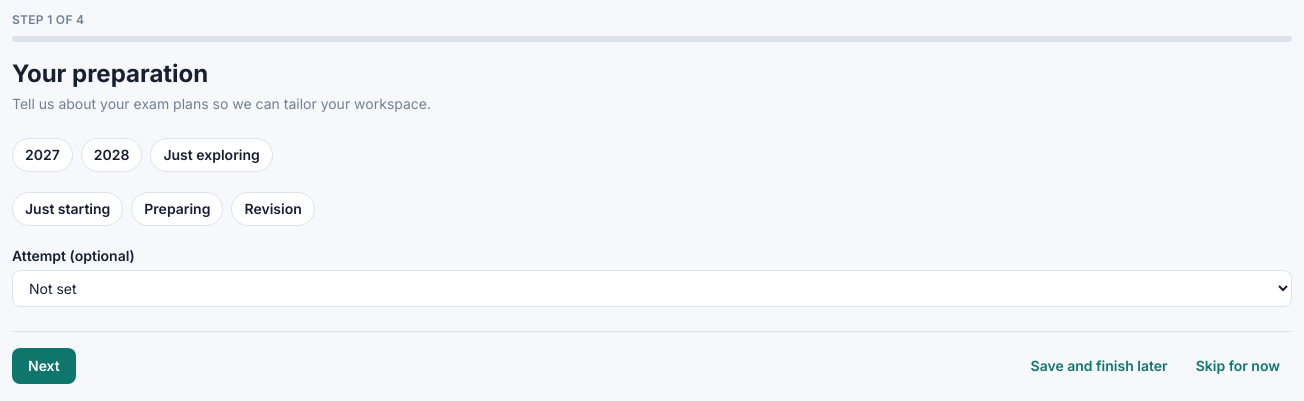
Wizard step 1 › offers Prefer not to say for the optional attempt
This screenshot has width=1304, height=401.
Expected: the heading "Your preparation" is shown, [12,59,208,88]
Select "Prefer not to say" in the dropdown labelled "Attempt (optional)" at (652, 288), box [12,270,1292,307]
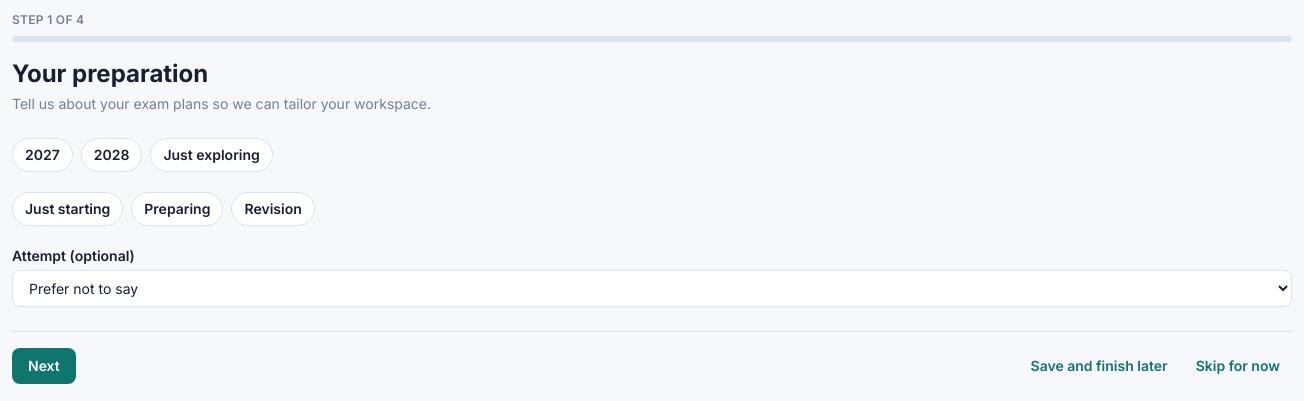
Click the radio button labelled "2028" at (112, 155), box [81,138,142,172]
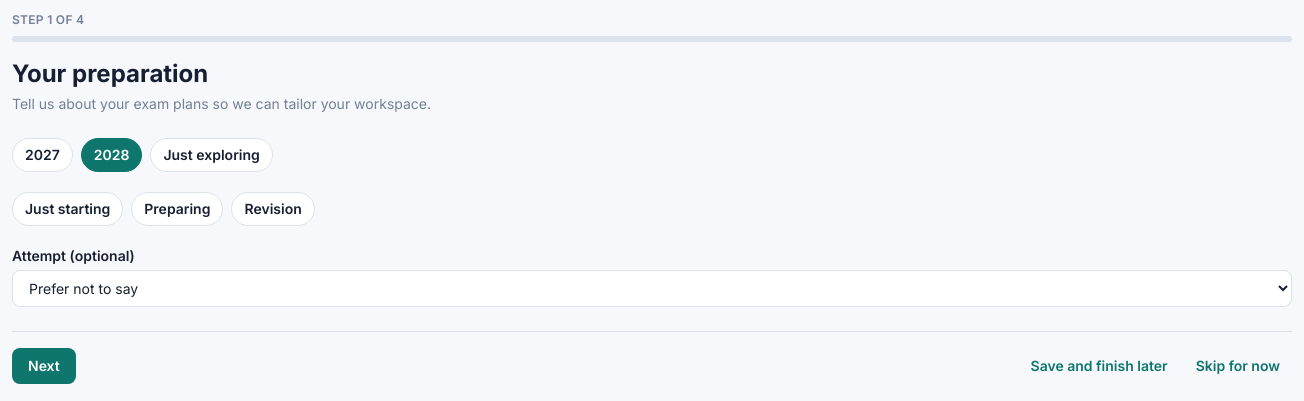
Click the radio button labelled "Revision" at (273, 209), box [231,192,315,226]
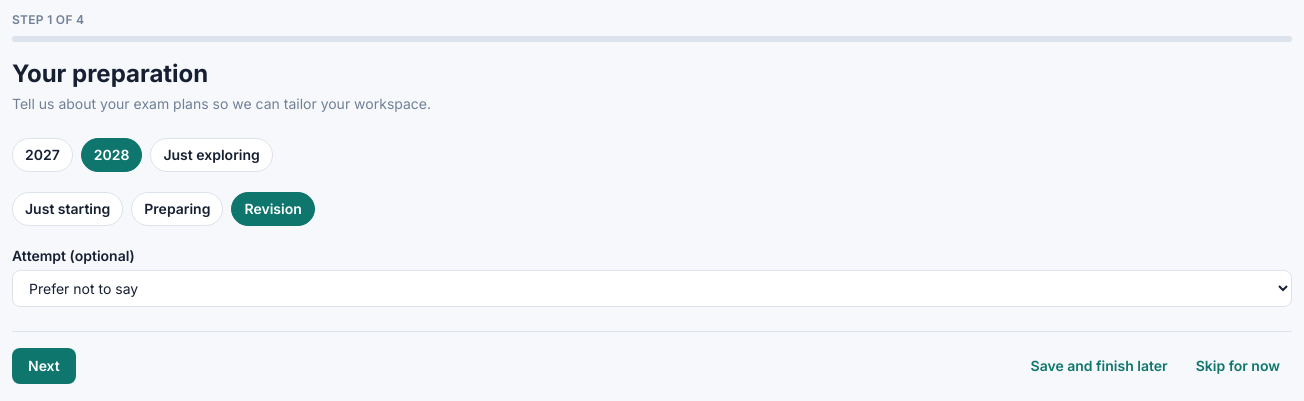
Click the button "Next" at (44, 366), box [12,348,76,384]
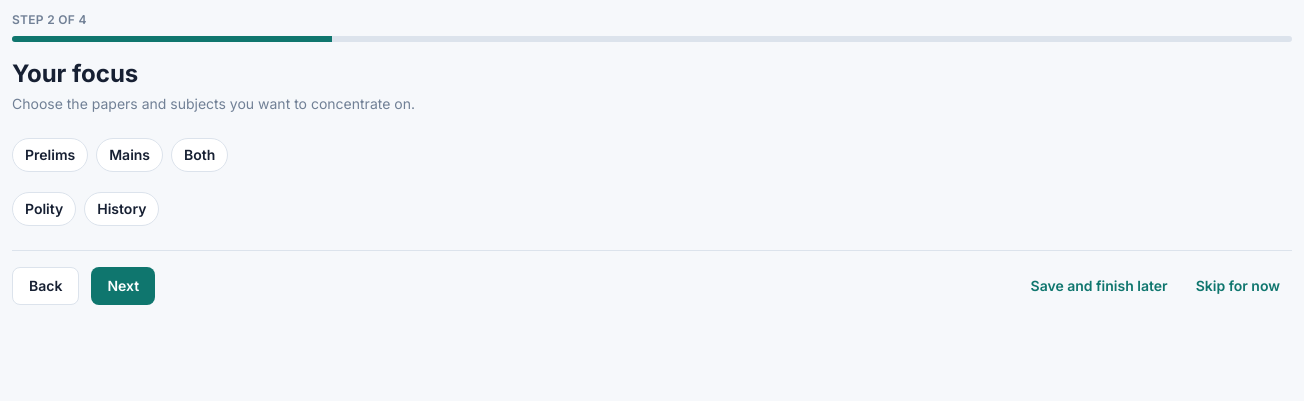
Now the heading "Your focus" is shown, box [12,59,138,88]
